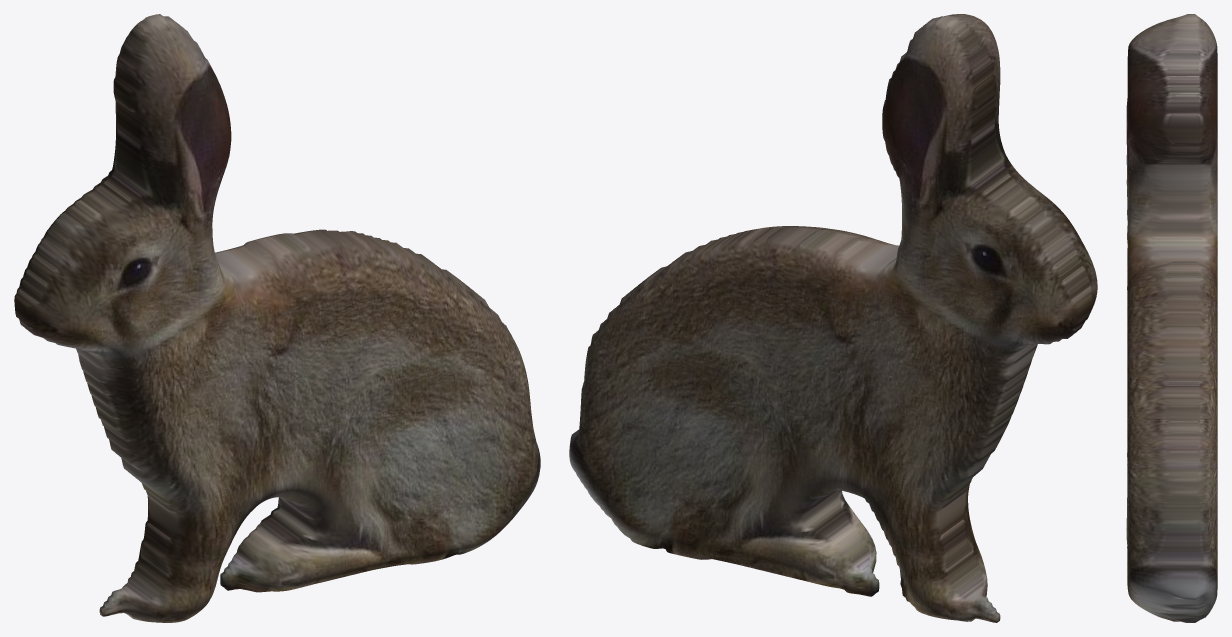
File: rabbit_78502673.glb
3 views of the same model, side by side, from view 1: azimuth 30°, elevation 25°; view 2: azimuth 150°, elevation 25°; view 3: azimuth 270°, elevation 25° (orthographic). The views are drawn at different scales.
Parts seen in each view (by area): view 1: rabbit_78502673; view 2: rabbit_78502673; view 3: rabbit_78502673.
Part boxes in pixels (box(x1,y1,x2,y2)): rabbit_78502673: box(14, 14, 540, 622); rabbit_78502673: box(569, 14, 1097, 622); rabbit_78502673: box(1126, 14, 1217, 622).
Bounding box in the file's own units: 1.74 × 1.94 × 0.3312.
1 material, 1 textured.
